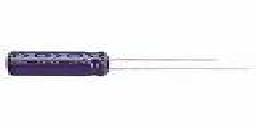Electrolytic-Capacitor: (3, 46, 256, 83)
